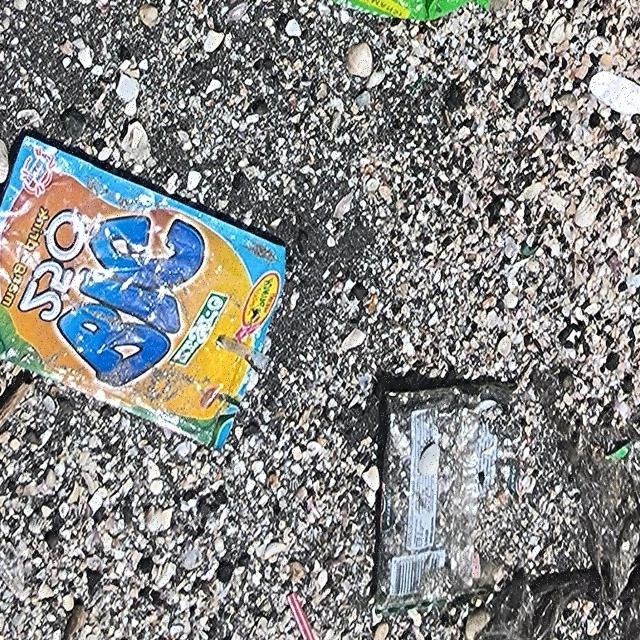plastic_waste: (1, 136, 288, 452), (374, 389, 501, 606)
